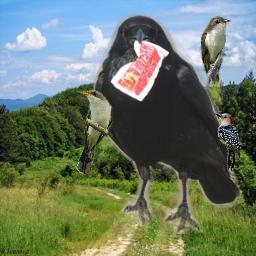Crow: (93, 14, 242, 234)
Cuckoo: (76, 90, 113, 174), (201, 14, 231, 105)
Woodpecker: (214, 113, 241, 171)
